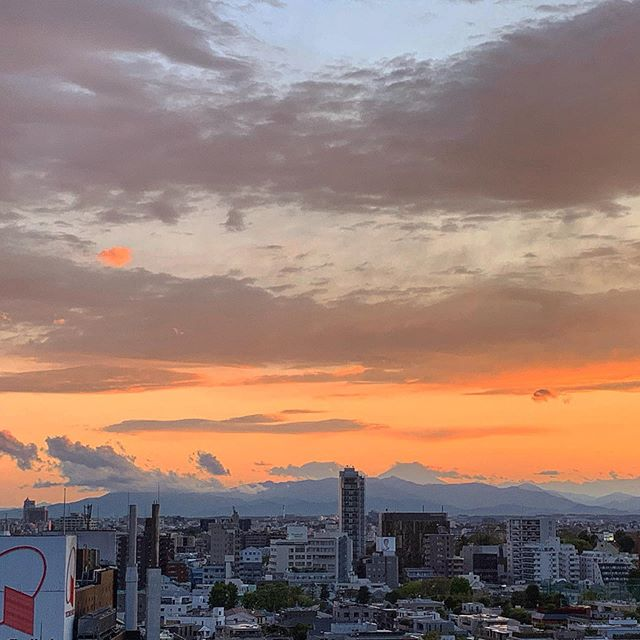building: (1, 522, 112, 640), (379, 507, 466, 586), (269, 527, 351, 586), (502, 512, 557, 581), (336, 472, 371, 573), (207, 517, 245, 563)
sky: (1, 1, 639, 494)
